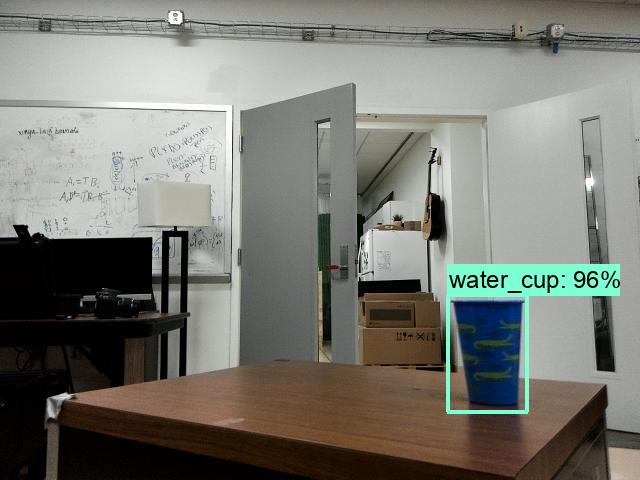water_cup: (447, 294, 527, 409)
